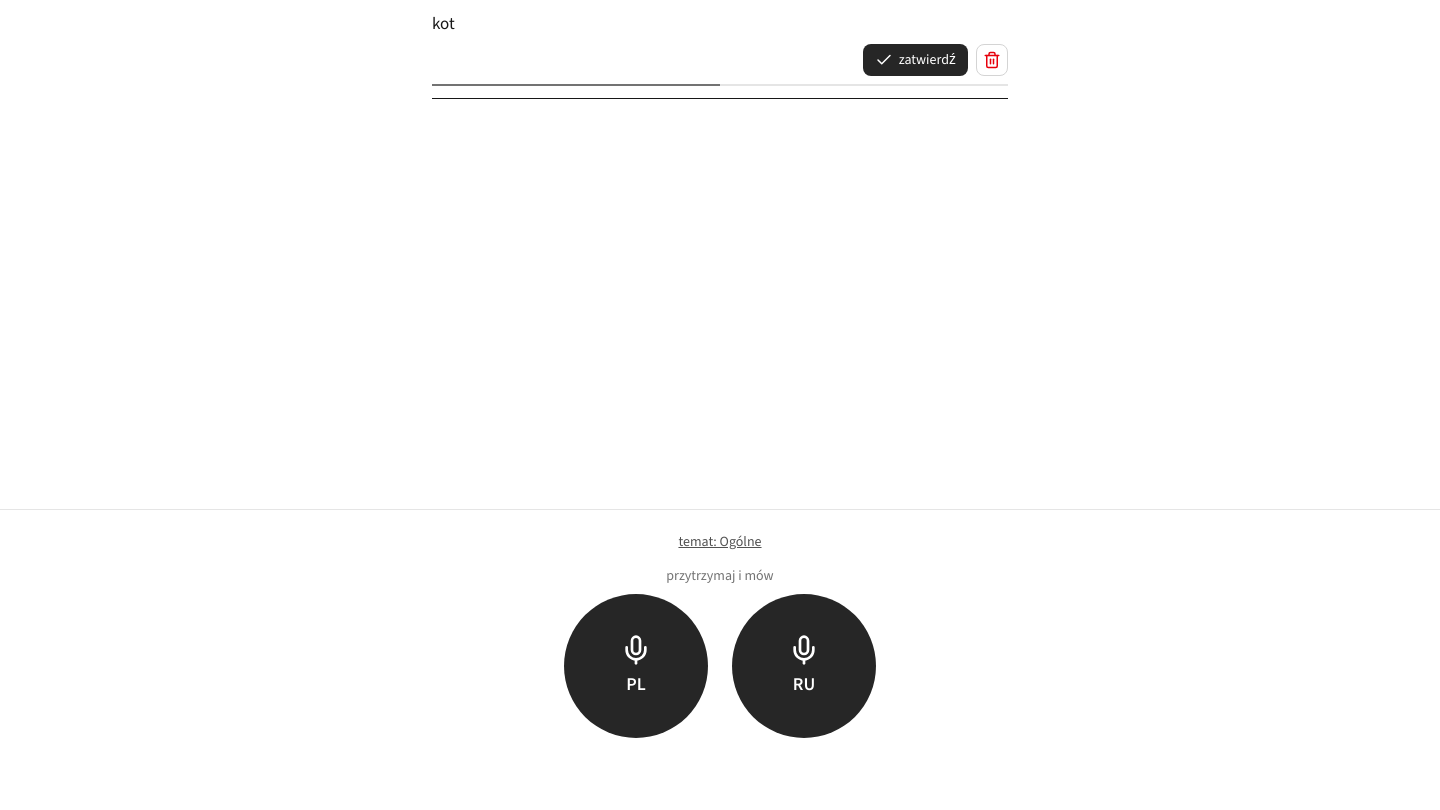
Scenario: AddPage slow and failing chip controls › reports a genuinely failed approve and leaves the chip on screen
Step 1. Click the button "zatwierdź" → click(915, 60), box [863,44,968,76]
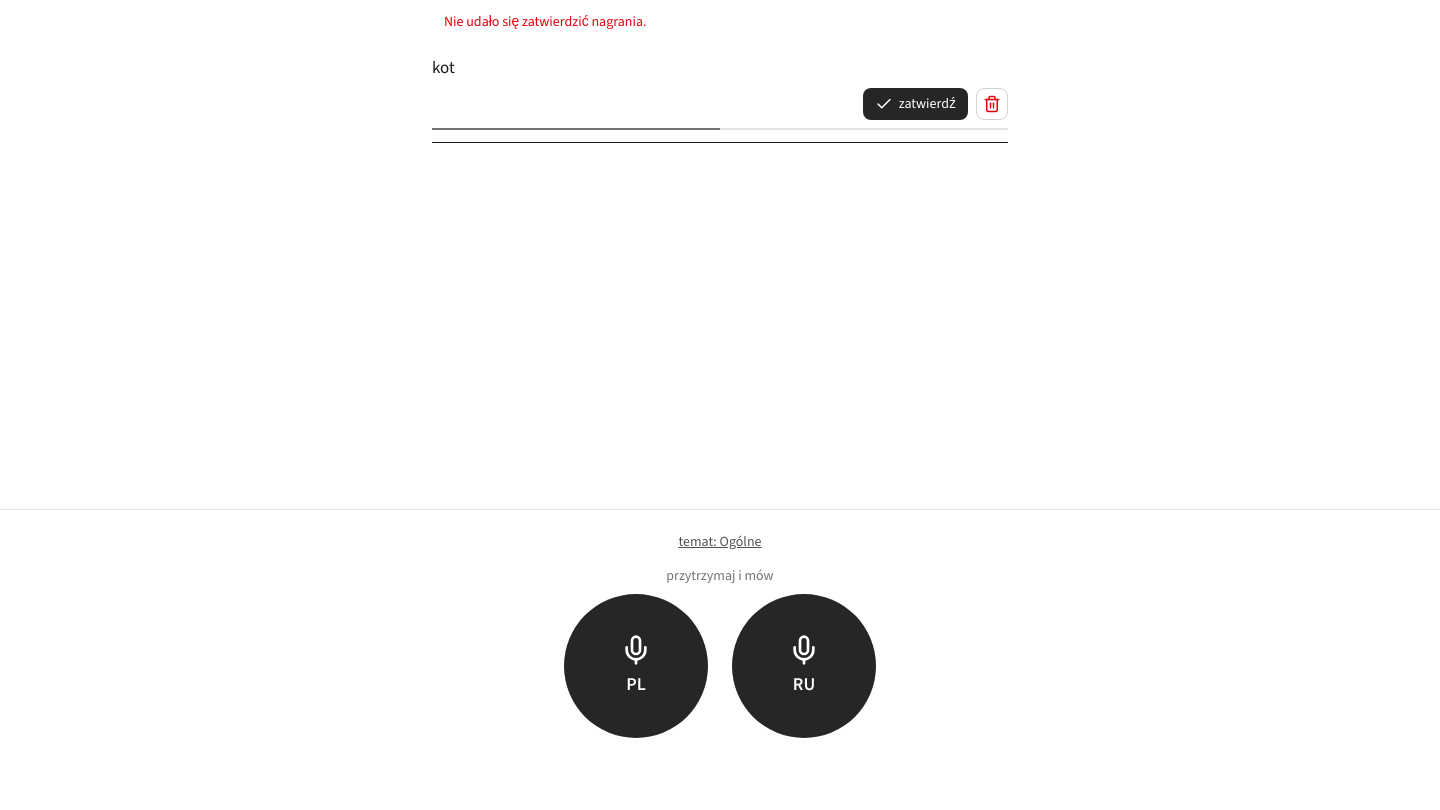
Expected: the text "kot" is shown, [432,56,455,79]
Expected: the text "Nie udało się zatwierdzić nagrania." is shown, [444,12,646,31]
